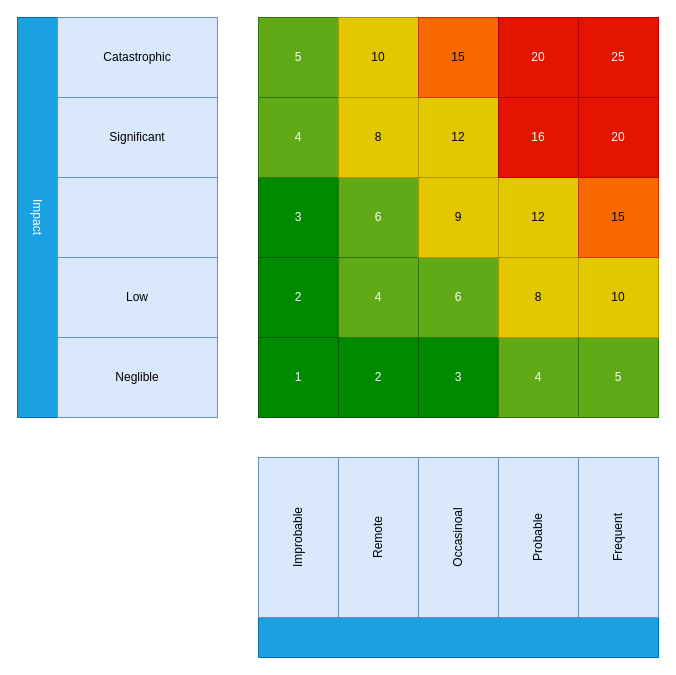
Image size: 676x675. Some labels were removed from this diagram. Here are the shapes that lost their labels. From the top down, the centre of each, then its label:
(x=137, y=217): Moderate
(x=458, y=637): Likelihood
